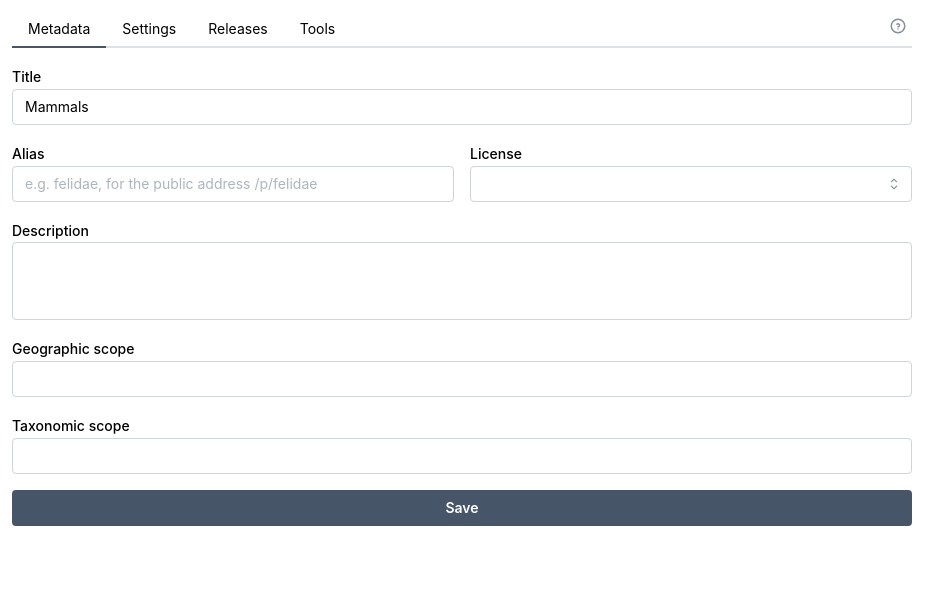
a DONE latest export renders its Download link on mount without the user clicking
This screenshot has width=929, height=602.
Check: the field labelled "Title" holds "Mammals", box [12,89,912,125]
Click the tab "Tools": (317, 30) [284,12,351,48]
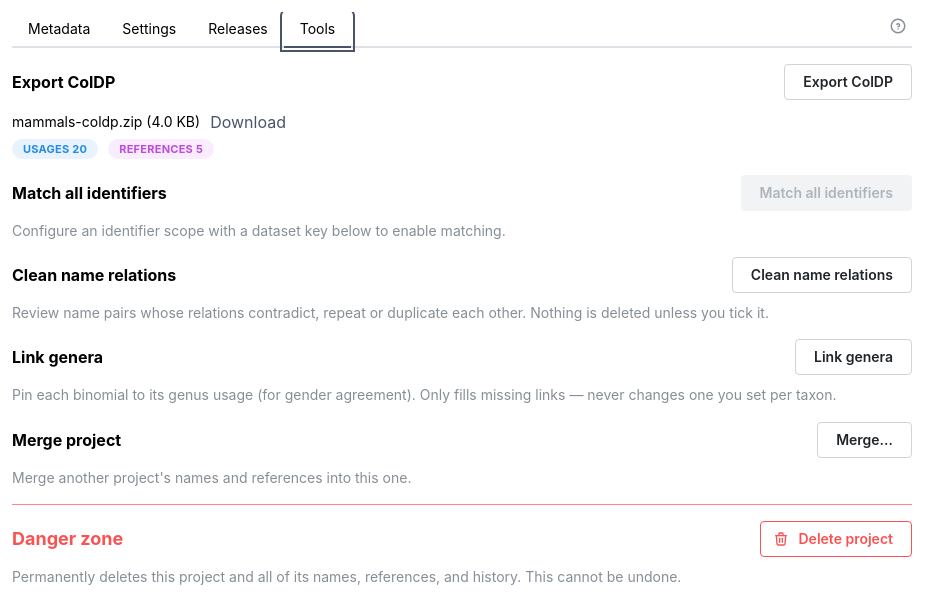
Check: the link "Download" is shown, box [210,110,286,135]
